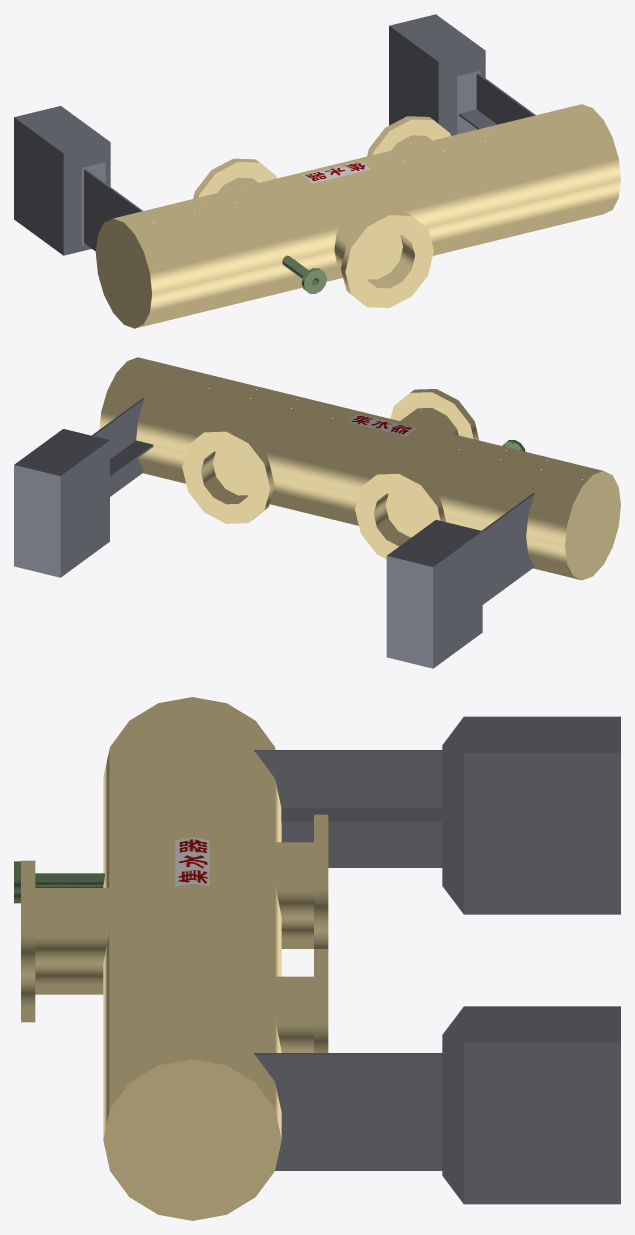
File: BYjishuiqi.glb
The picture shows the model from 3 angles, top to bottom: view 1: azimuth 30°, elevation 25°; view 2: azimuth 150°, elevation 25°; view 3: azimuth 270°, elevation 25°; orthographic projection. The views are drawn at different scales.
Size of the model in its own units: 8.64 by 1.8 by 6.12.
4 materials, 1 textured.
